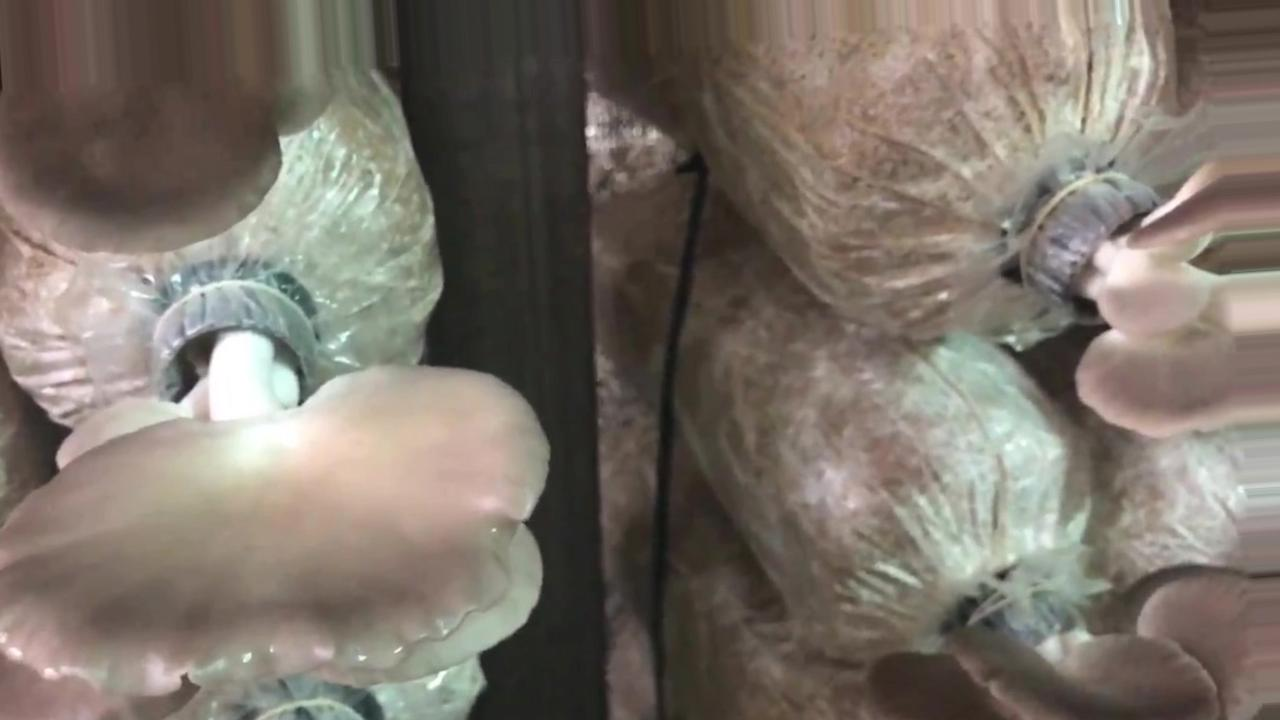nam: (1, 289, 550, 704), (7, 1, 342, 263), (1036, 155, 1277, 438), (857, 563, 1280, 719)
